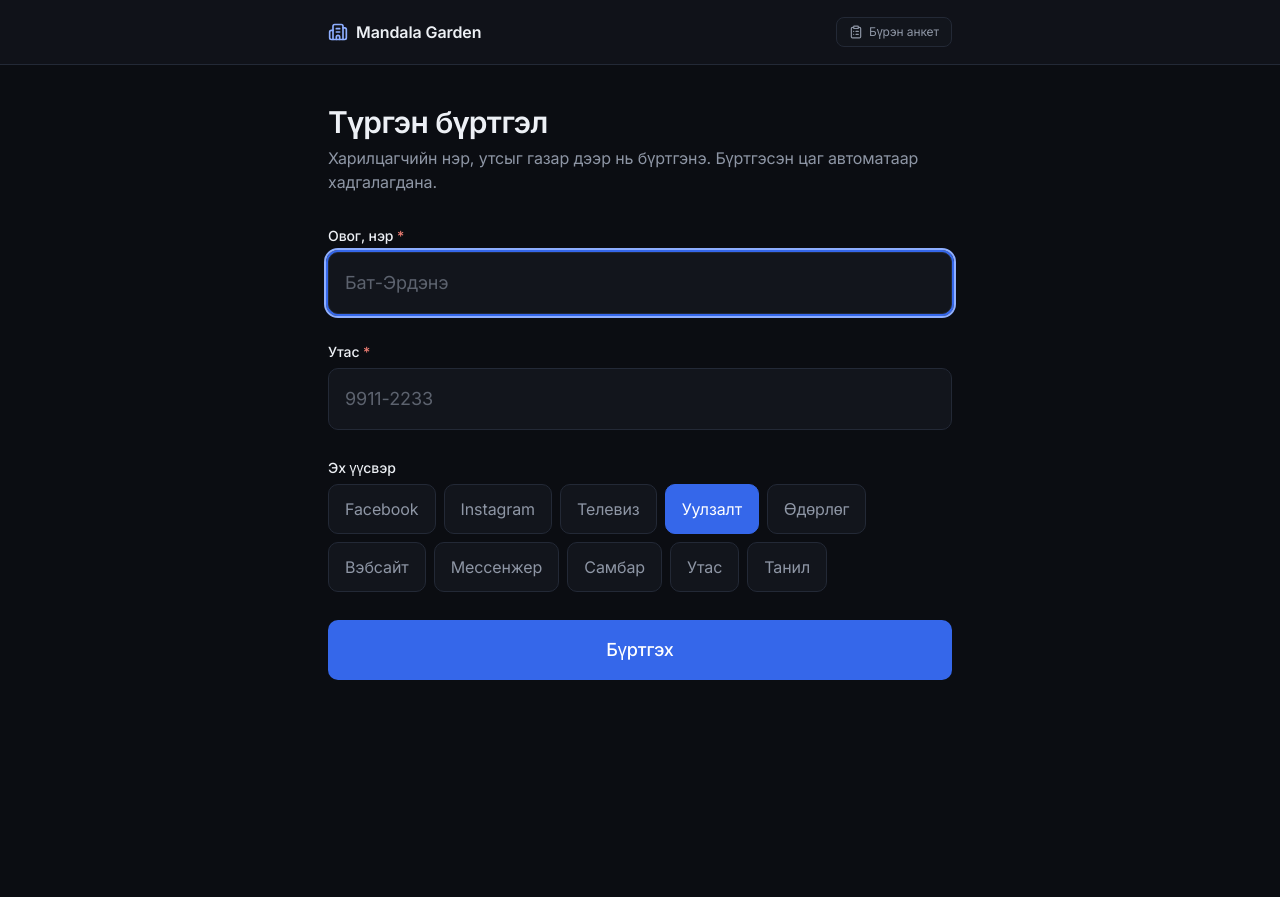
staff quick entry › restores the tablet preference from ?quick=1 for staff
The image size is (1280, 897).
Check: the heading "Түргэн бүртгэл" is shown, box [328,104,548,140]
What coordinates should you click on to do the following:
click the button "Бүрэн анкет"
I would click on:
 (894, 32)
Its box is [836,17,952,47].
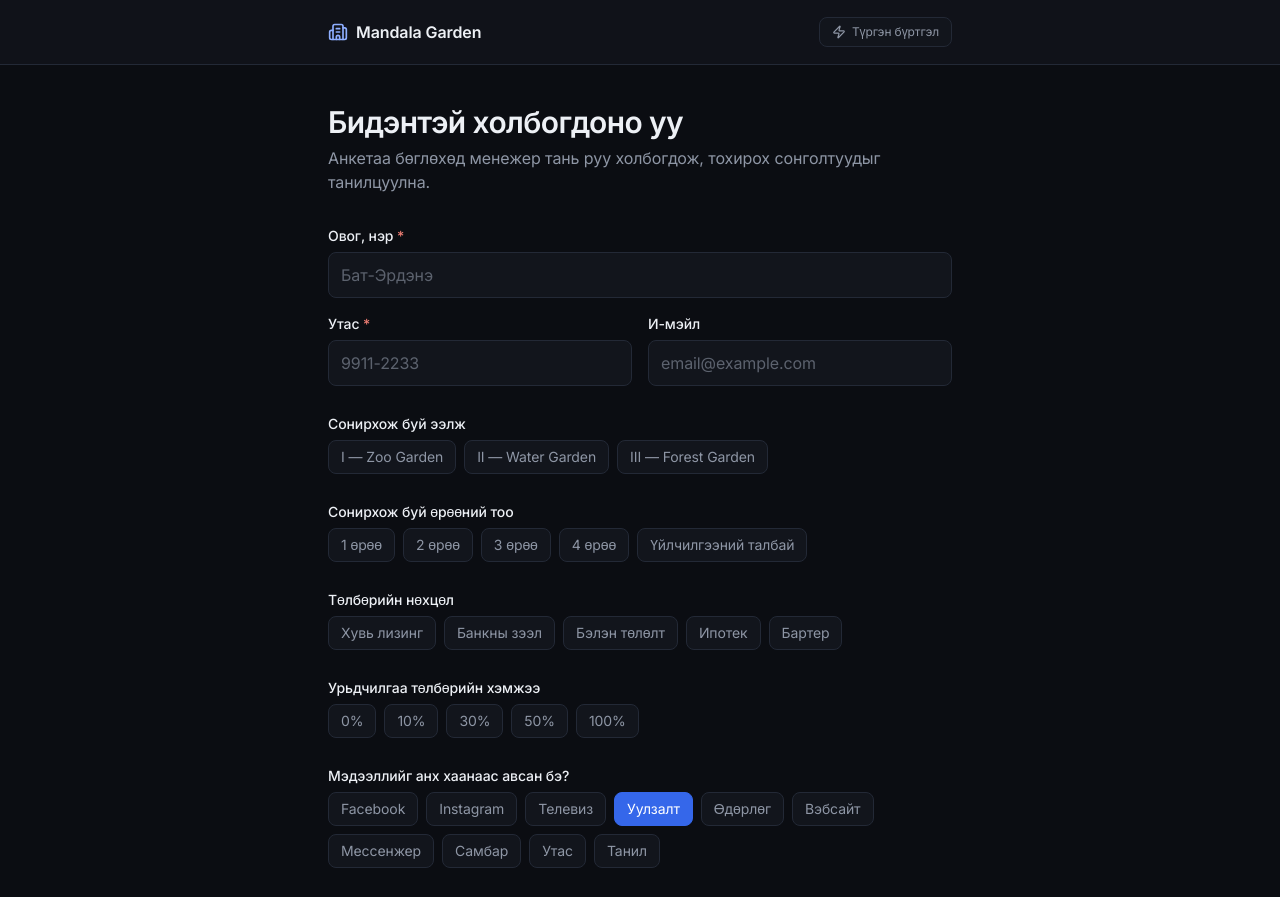
Check: the heading "Бидэнтэй холбогдоно уу" is shown, box [328,104,683,140]
